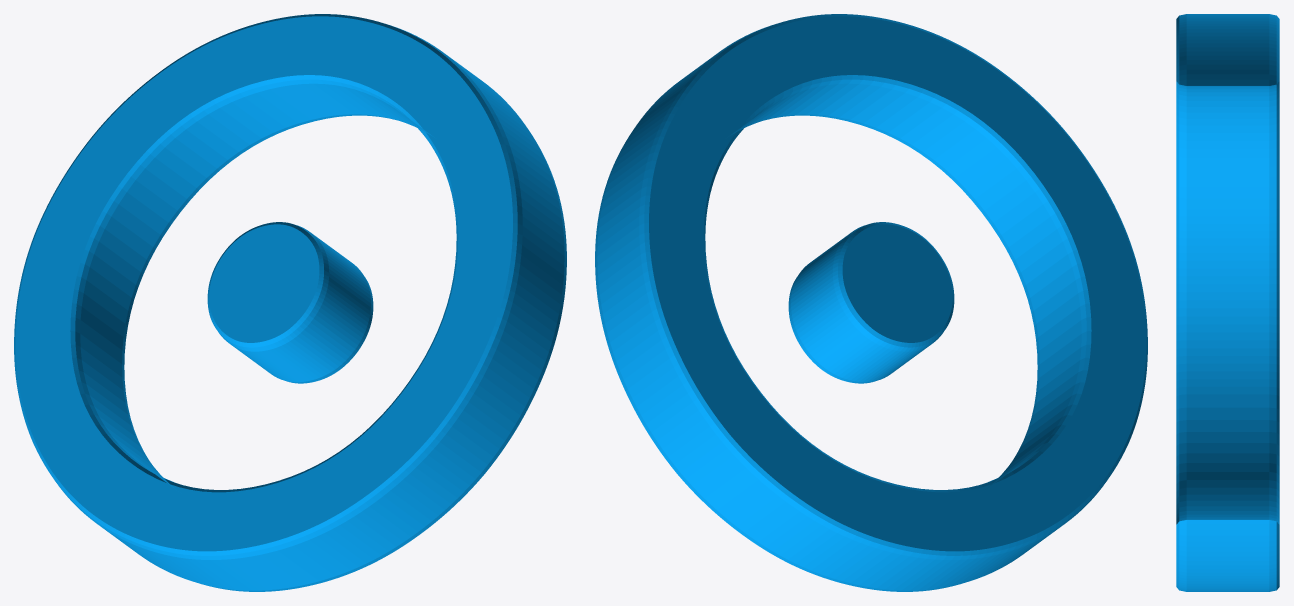
The model's file is glyph_mastery.glb.
3 renders of one model, left to right at view 1: azimuth 30°, elevation 25°; view 2: azimuth 150°, elevation 25°; view 3: azimuth 270°, elevation 25°, orthographic.
Size of the model in its own units: 55.91 by 55.95 by 10.
